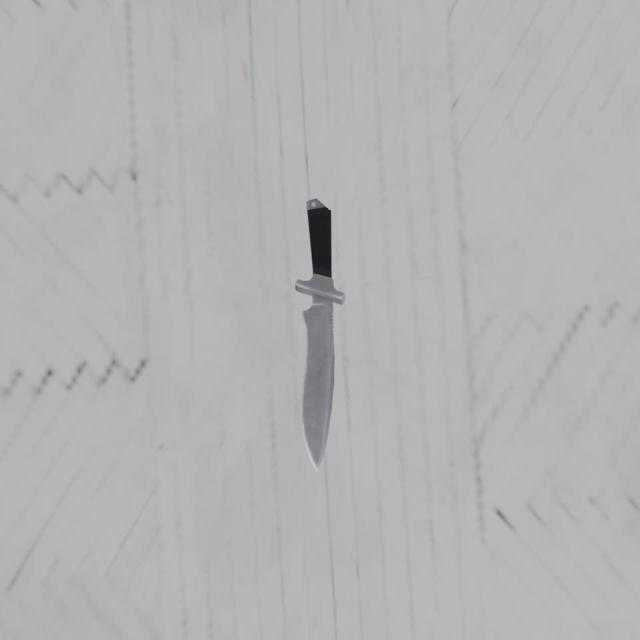knife: (305, 184, 332, 282)
